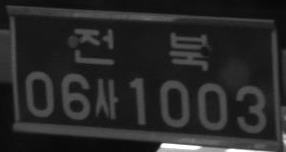0: (196, 81, 228, 131), (159, 78, 190, 128), (24, 69, 54, 118)
1: (125, 77, 151, 126)
3: (234, 84, 267, 135)
6: (59, 71, 90, 120)
사: (93, 77, 118, 121)
전북_D: (73, 27, 210, 71)
